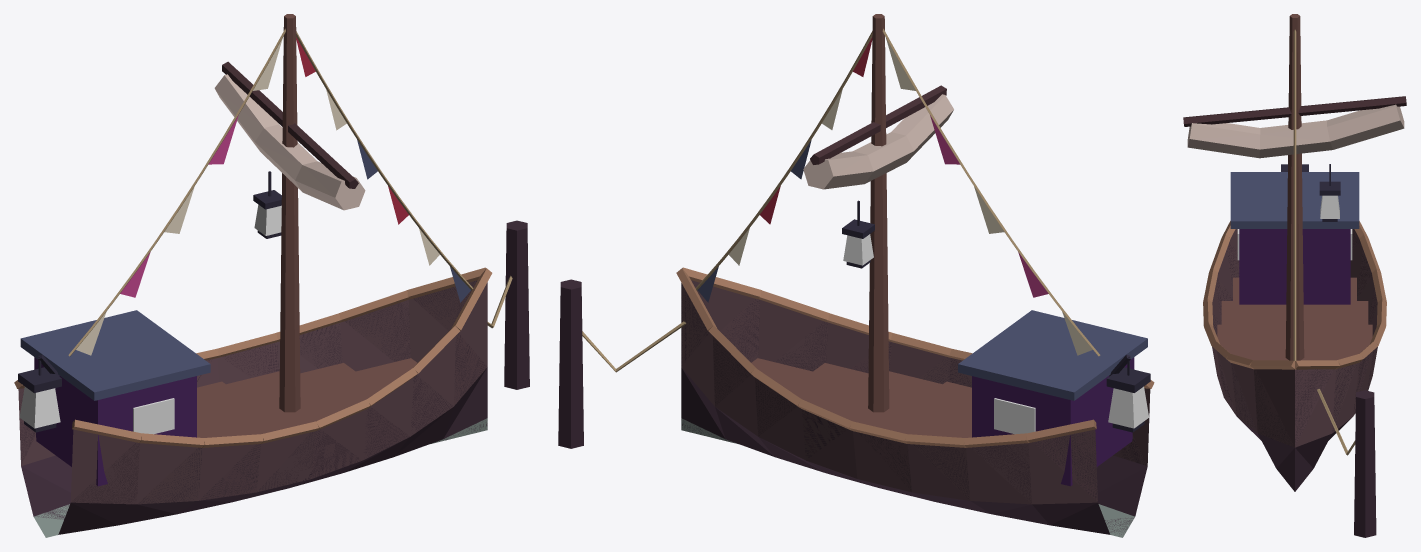
The model's file is Fair_Boat.fbx.
3 views of the same model, side by side, from view 1: azimuth 30°, elevation 25°; view 2: azimuth 150°, elevation 25°; view 3: azimuth 270°, elevation 25° (orthographic). The views are drawn at different scales.
Visible parts, largest first — view 1: Fair_Boat; view 2: Fair_Boat; view 3: Fair_Boat.
Part boxes in pixels (box(x1,y1,x2,y2)): Fair_Boat: box(14, 14, 529, 537); Fair_Boat: box(558, 14, 1154, 537); Fair_Boat: box(1183, 14, 1406, 537).
Size of what is drawn, in the model's own units: 9.36 by 7.6 by 3.82.
2 materials, 1 textured.
